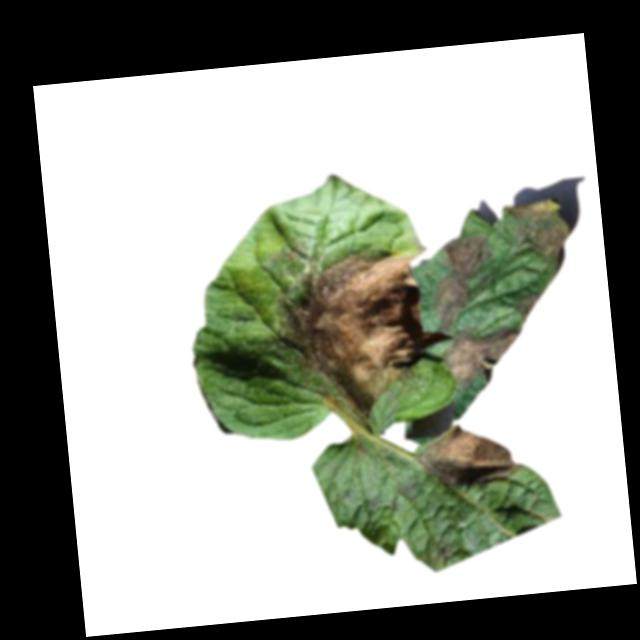Late_blight: (274, 246, 435, 428), (411, 420, 522, 495), (428, 232, 499, 332), (501, 194, 578, 271), (438, 324, 518, 392), (513, 288, 546, 323)
